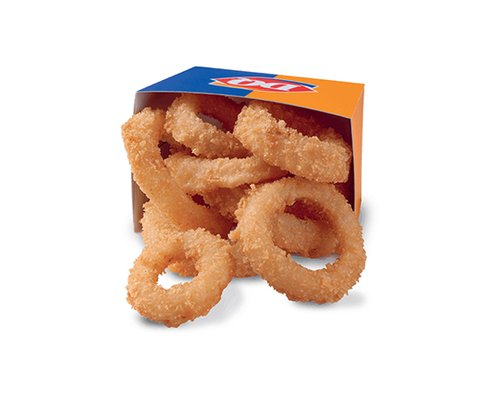salad: (229, 178, 366, 305)
